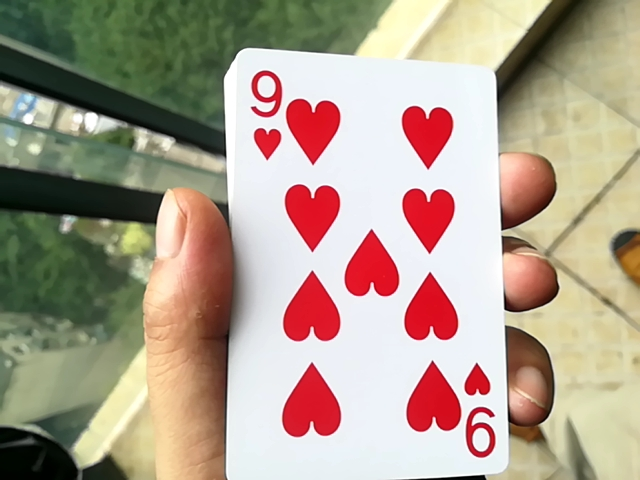hx 9: (198, 48, 515, 480)
